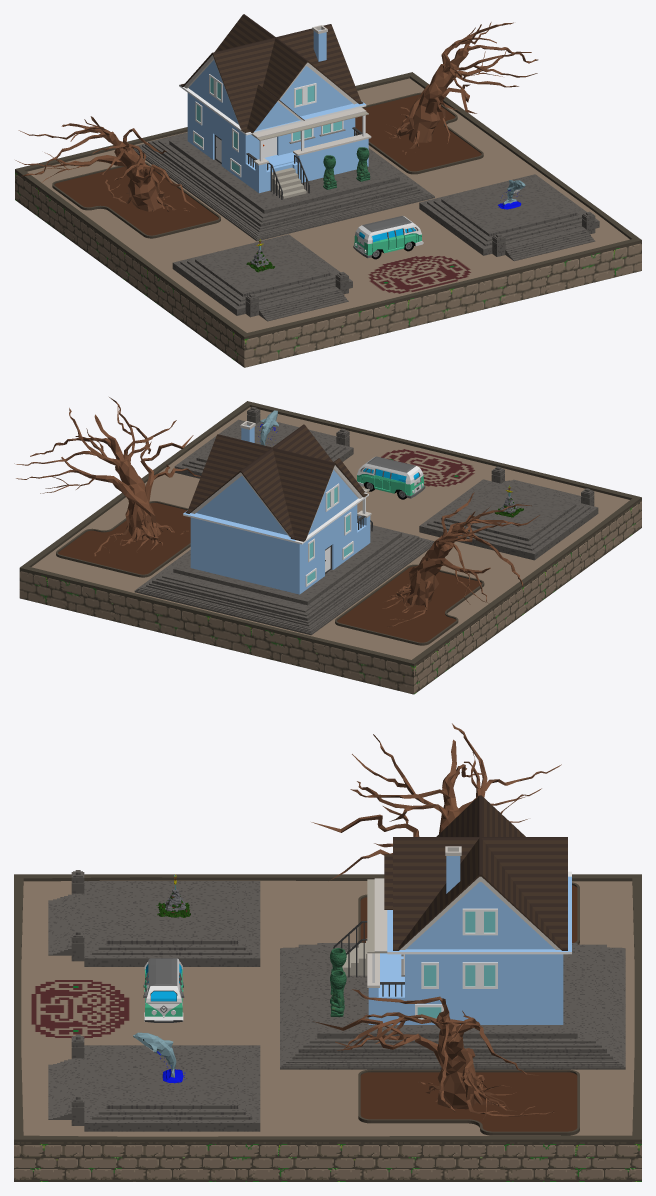
3 renders of one model, top to bottom at view 1: azimuth 30°, elevation 25°; view 2: azimuth 150°, elevation 25°; view 3: azimuth 270°, elevation 25°, orthographic. The views are drawn at different scales.
Parts seen in each view (by area): view 1: Cube.011, Cube.1594, VEHICLES_VAN; view 2: Cube.011, Cube.1594, VEHICLES_VAN; view 3: Cube.011, Cube.1594, VEHICLES_VAN, ANIMAL_DELFIN, OBJRANDOM_SWORD_IN_THE_STONE.
Boxes of the visible parts, bbox=[...] form: Cube.011: bbox=[15, 22, 641, 367]; Cube.1594: bbox=[179, 14, 371, 199]; VEHICLES_VAN: bbox=[353, 215, 423, 259]; Cube.011: bbox=[14, 397, 641, 694]; Cube.1594: bbox=[183, 421, 372, 594]; VEHICLES_VAN: bbox=[357, 456, 425, 499]; Cube.011: bbox=[14, 723, 641, 1181]; Cube.1594: bbox=[333, 795, 571, 1024]; VEHICLES_VAN: bbox=[143, 958, 184, 1022]; ANIMAL_DELFIN: bbox=[133, 1032, 185, 1083]; OBJRANDOM_SWORD_IN_THE_STONE: bbox=[156, 874, 190, 917].
Bounding box in the file's own units: 5099 × 1659 × 4000.
41 materials, 5 textured.
